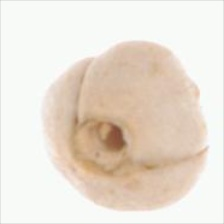L3: (71, 116, 138, 179)
L4: (43, 41, 210, 211)
